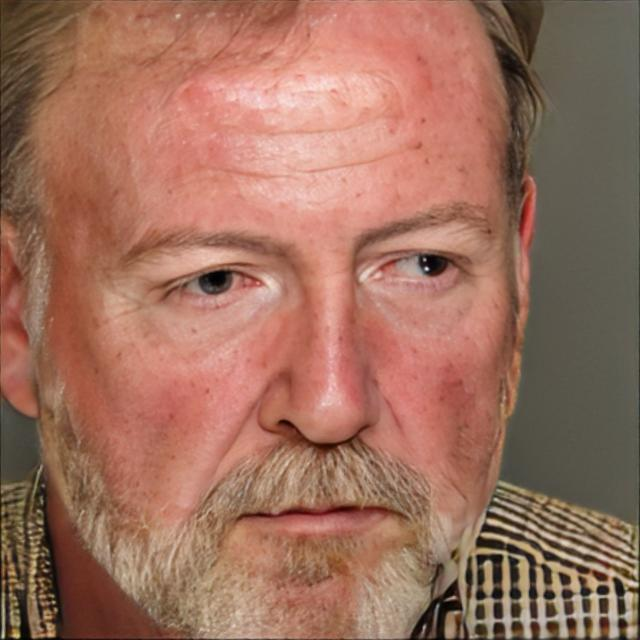neutral: (39, 0, 513, 640)
